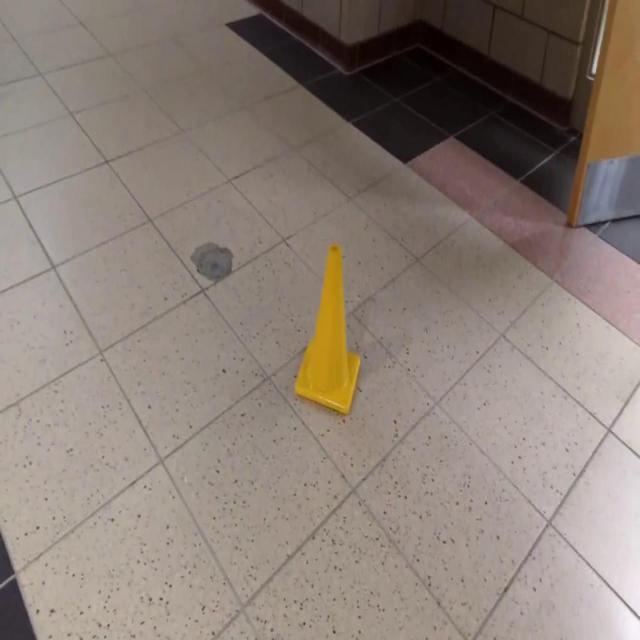frc_cone: (294, 241, 362, 417)
